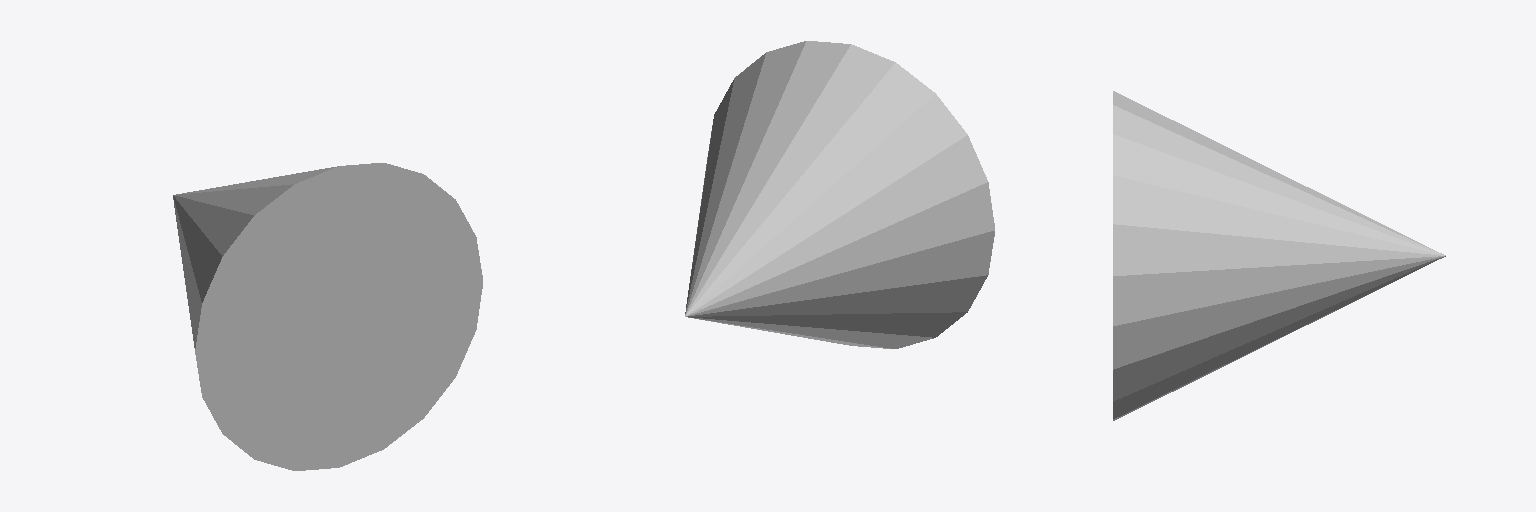
File: cone_wei.obj
The picture shows the model from 3 angles: view 1: azimuth 30°, elevation 25°; view 2: azimuth 150°, elevation 25°; view 3: azimuth 270°, elevation 25°; orthographic projection.
Visible parts, largest first — view 1: pCone1; view 2: pCone1; view 3: pCone1.
Part boxes in pixels (left/top/right/bottom): pCone1: left=173, top=163, right=482, bottom=470; pCone1: left=685, top=41, right=994, bottom=348; pCone1: left=1113, top=91, right=1445, bottom=420.
Bounding box in the file's own units: 1 × 1 × 1.